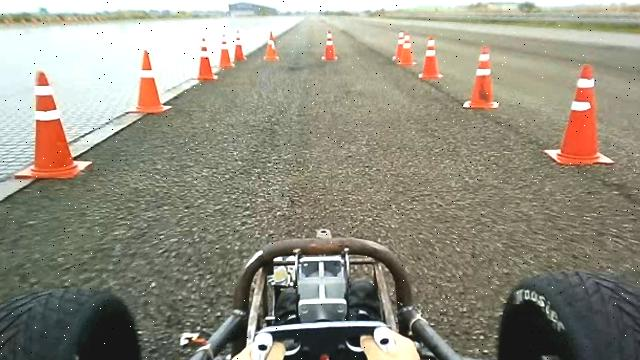red cone: (542, 63, 614, 166), (14, 70, 80, 180), (125, 49, 172, 114), (462, 44, 499, 109), (192, 37, 218, 80), (418, 36, 443, 79), (217, 32, 235, 68)
